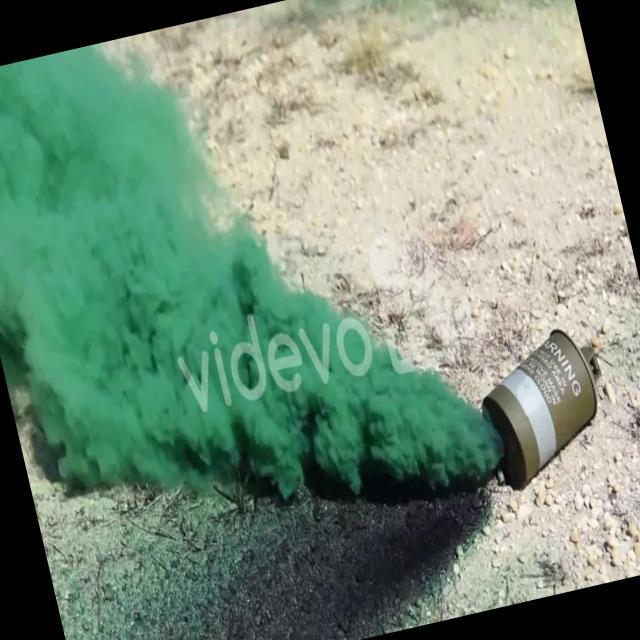grenade: (460, 306, 627, 498)
